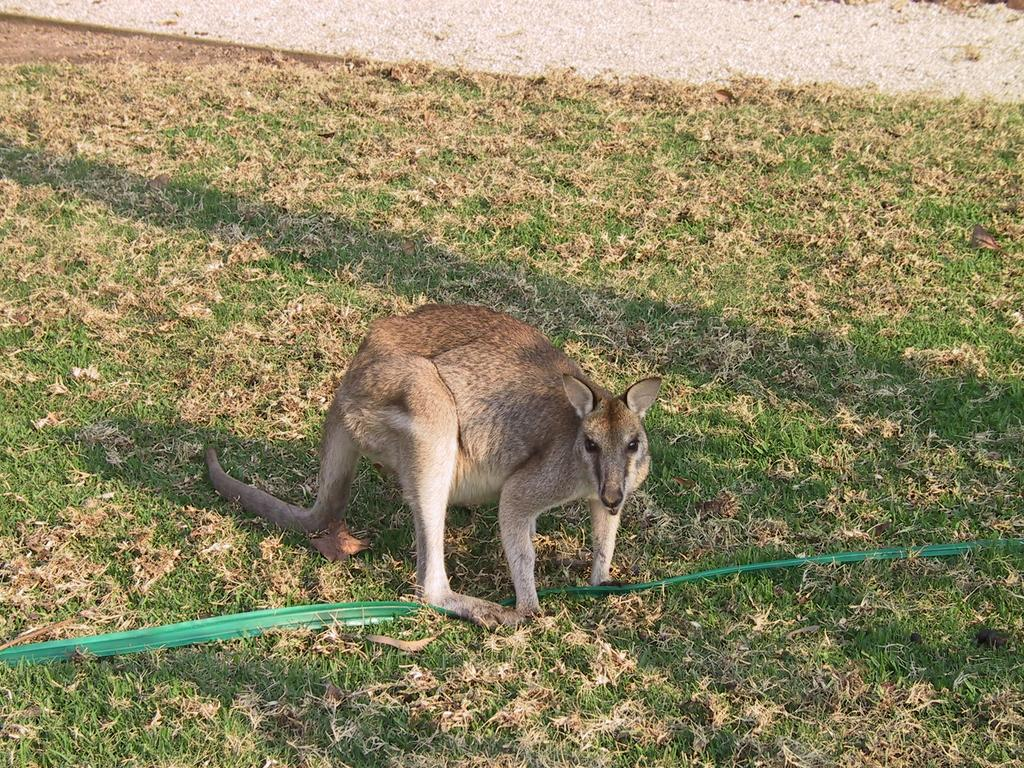kangaroo: (200, 302, 663, 632)
